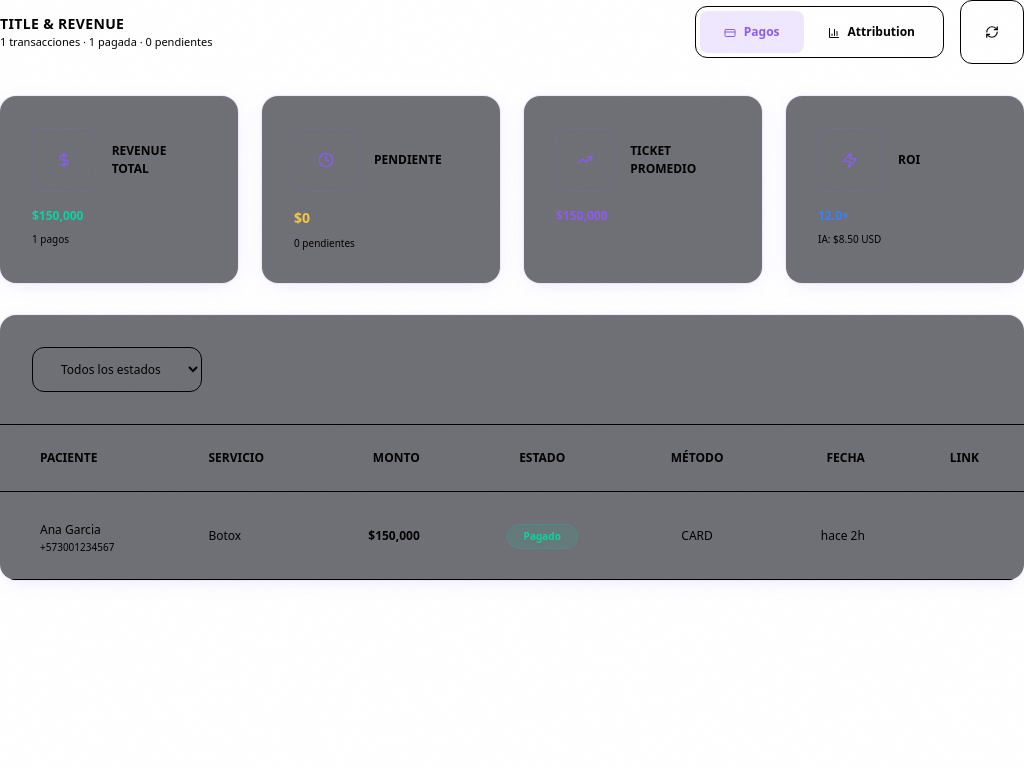
Test: PagosPage › switches to Attribution tab and displays channel revenue
This screenshot has width=1024, height=768.
Expected: the text "Ana Garcia" is shown, [40,521,101,538]
Click the button "Attribution". click: (871,32)
box: [804,11,939,53]
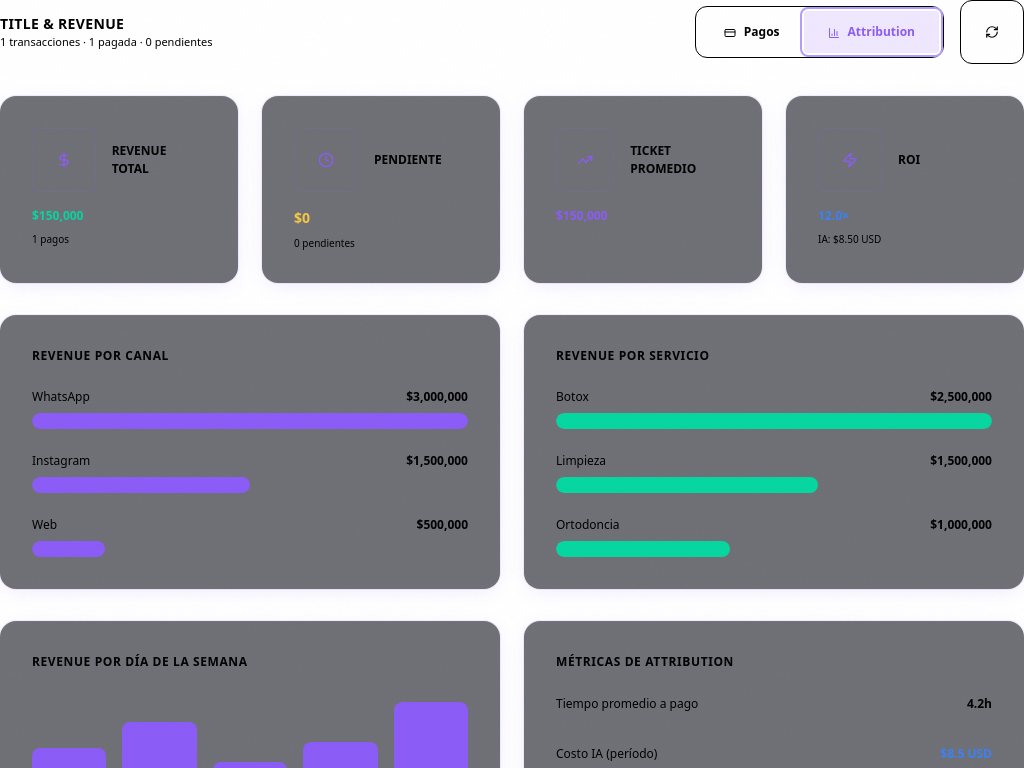
Expected: the heading "Revenue por Canal" is shown, [32,347,169,364]
Expected: the text "WhatsApp" is shown, [32,389,90,405]
Expected: the text "$3,000,000" is shown, [406,389,468,405]
